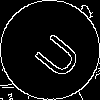U: (25, 25, 84, 83)
